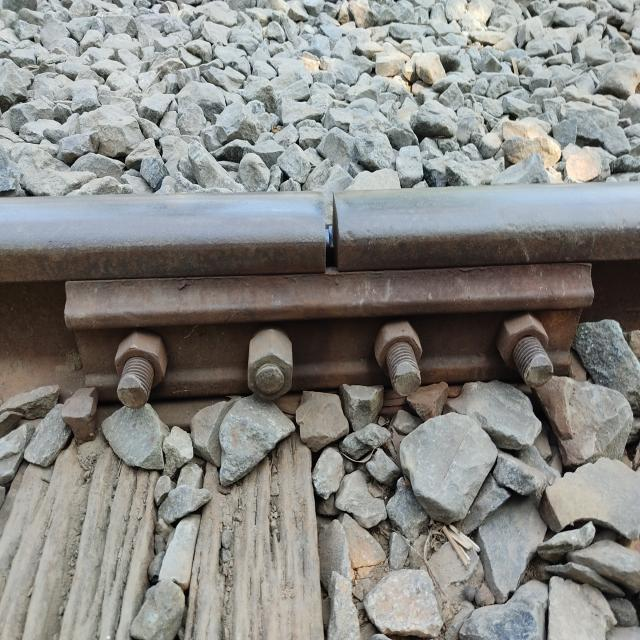Faults: (310, 184, 356, 282)
